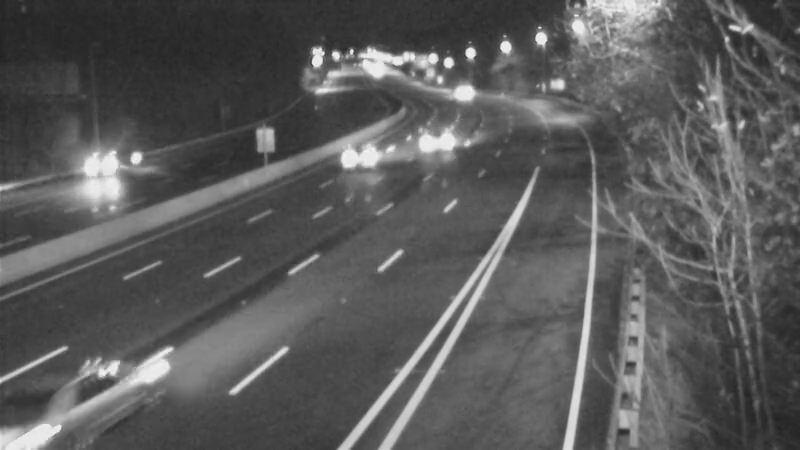vehicle: (19, 344, 129, 450), (314, 118, 394, 198), (67, 124, 147, 204), (437, 62, 487, 112), (417, 110, 467, 160)
